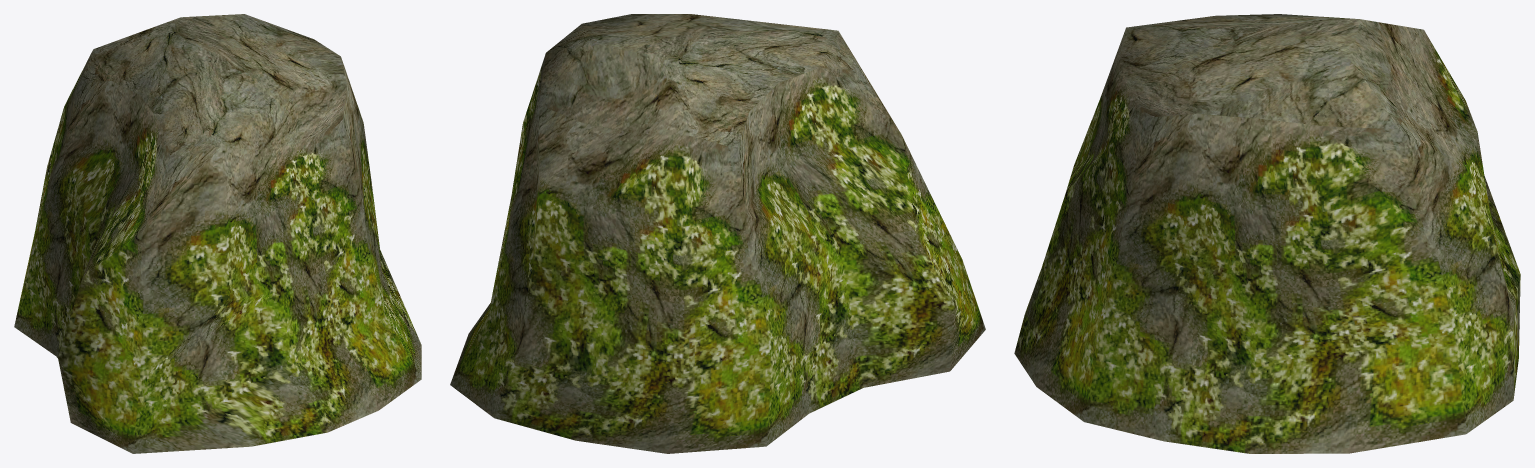
File: rock_liaaba_covered_a2_l1.fbx
3 views of the same model, side by side, from view 1: azimuth 30°, elevation 25°; view 2: azimuth 150°, elevation 25°; view 3: azimuth 270°, elevation 25° (orthographic). The views are drawn at different scales.
Visible parts, largest first — view 1: mesh_node; view 2: mesh_node; view 3: mesh_node.
Part boxes in pixels (x1,y1,x2,y2): mesh_node: (14, 14, 421, 453); mesh_node: (450, 14, 985, 453); mesh_node: (1014, 14, 1520, 453).
Bounding box in the file's own units: 4.89 × 3.75 × 5.09.
